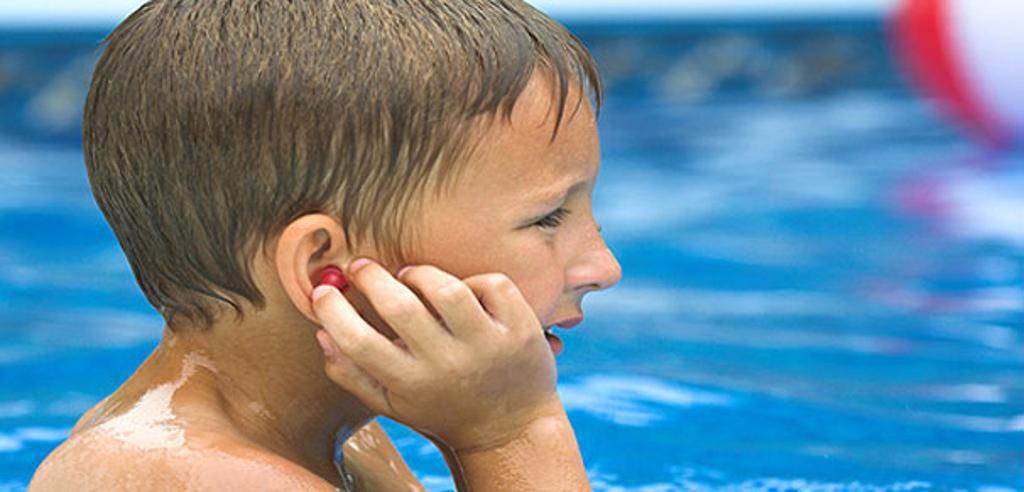face: (401, 93, 623, 421)
